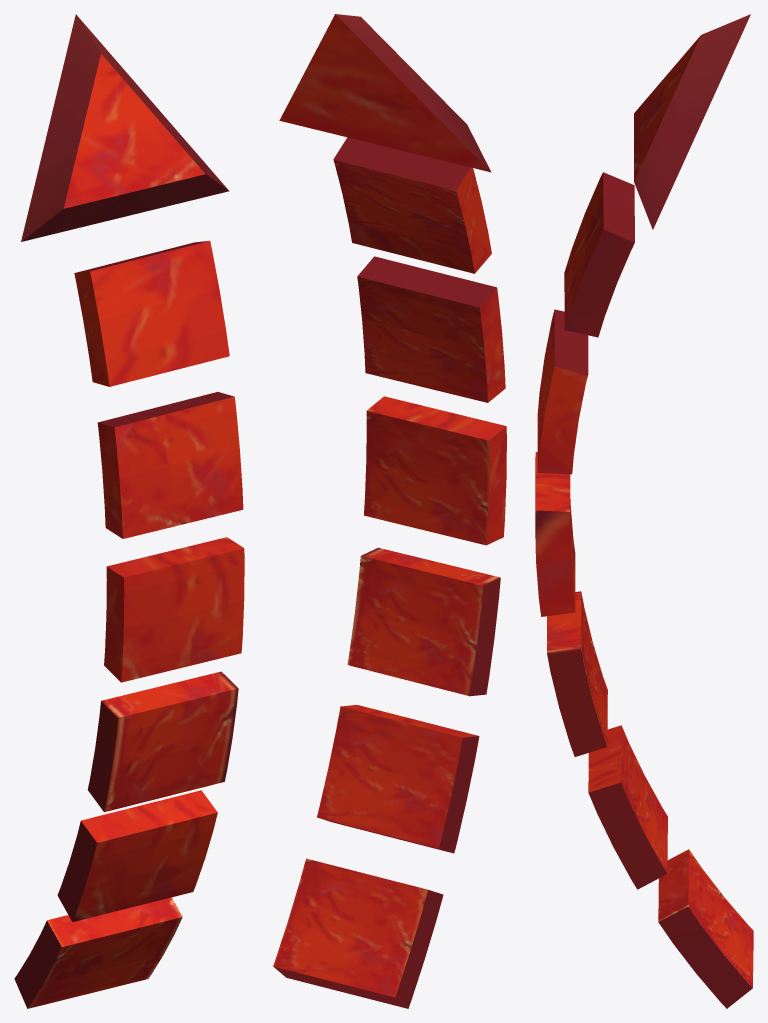
File: Arrow.glb
3 renders of one model, left to right at view 1: azimuth 30°, elevation 25°; view 2: azimuth 150°, elevation 25°; view 3: azimuth 270°, elevation 25°, orthographic. The views are drawn at different scales.
Visible parts, largest first — view 1: Circle; view 2: Circle; view 3: Circle.
Part boxes in pixels (bbox=[...]): Circle: bbox=[14, 14, 244, 1008]; Circle: bbox=[273, 14, 506, 1008]; Circle: bbox=[535, 14, 753, 1008].
Size of the model in its own units: 1.73 by 7.71 by 1.58.
Materials: 1 (1 with a texture image).
